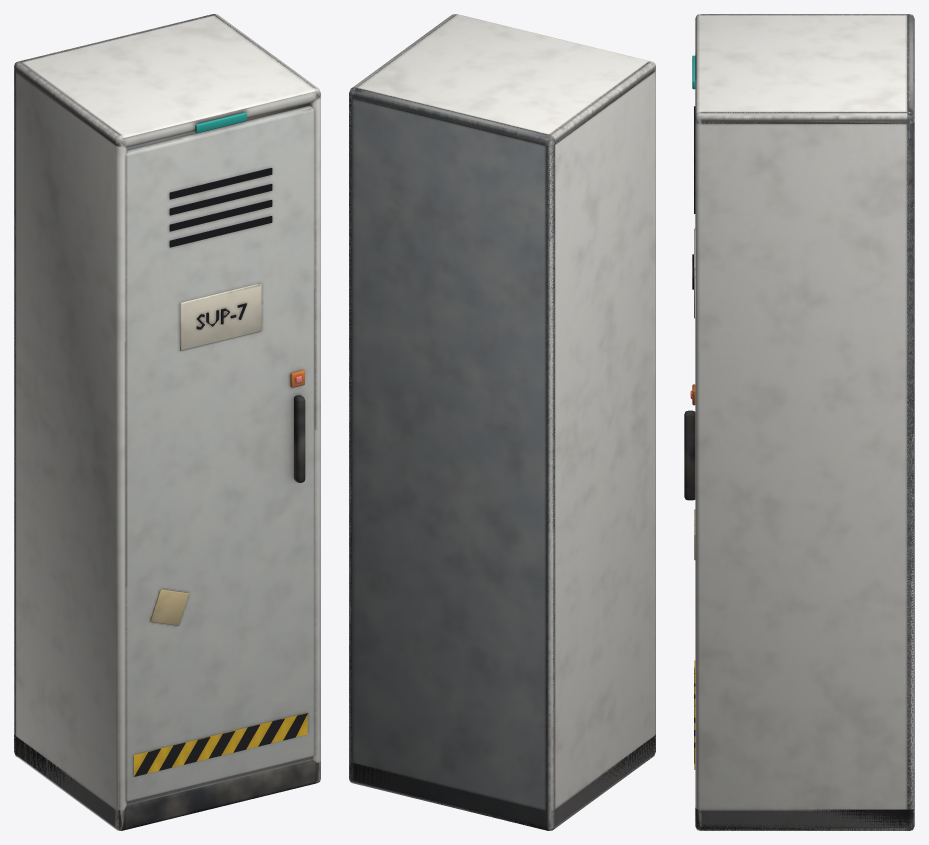
The model's file is supply_locker.fbx.
3 views of the same model, side by side, from view 1: azimuth 30°, elevation 25°; view 2: azimuth 150°, elevation 25°; view 3: azimuth 270°, elevation 25° (orthographic). The views are drawn at different scales.
Visible parts, largest first — view 1: Door, Body; view 2: Body; view 3: Body, Door.
Boxes of the visible parts, x1,y1,x2,y2 form: Door: (125,105,314,802); Body: (14,14,320,830); Body: (349,14,655,830); Body: (695,14,914,830); Door: (684,106,695,769).
Bounding box in the file's own units: 2 × 6.5 × 1.89.
Materials: 1 (1 with a texture image).
